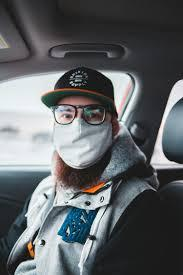cap: (36, 63, 122, 110)
mask: (40, 115, 126, 176)
sunglasses: (56, 93, 112, 129)
